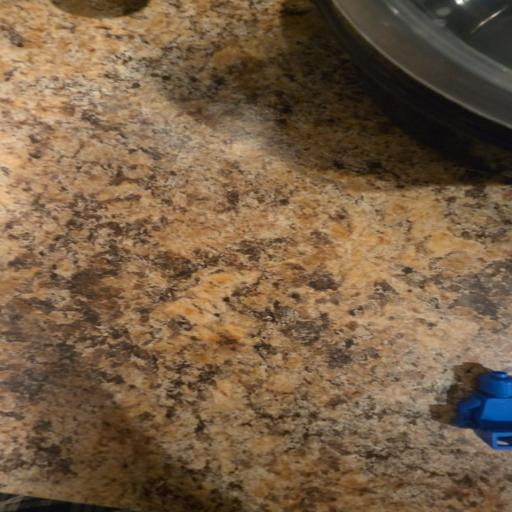Blue: (453, 371, 512, 450)
